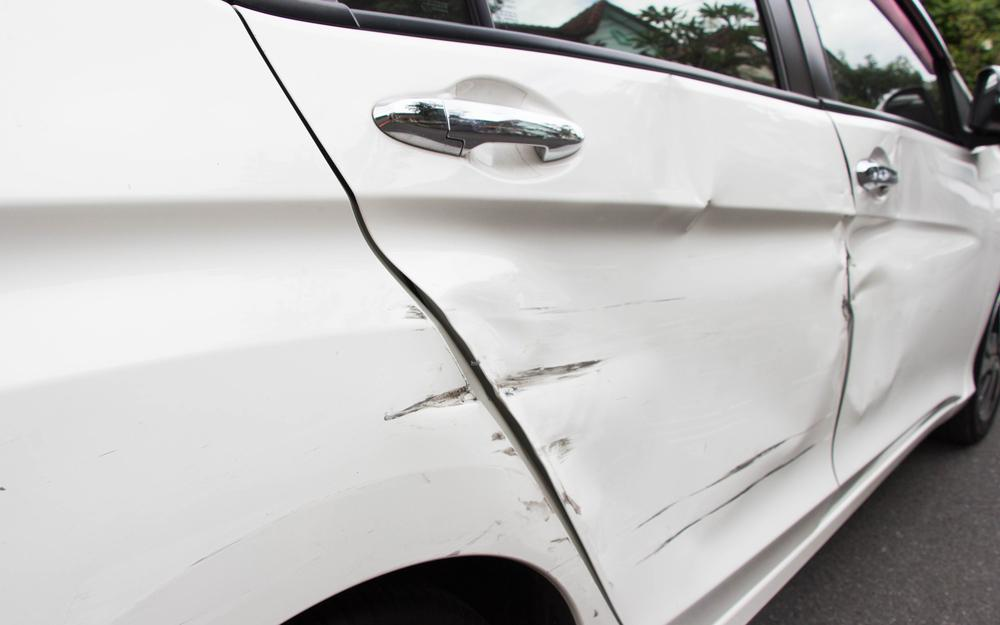dent: (461, 74, 847, 555), (845, 131, 982, 416)
scratch: (490, 429, 576, 556), (378, 381, 478, 423), (401, 303, 435, 337)
